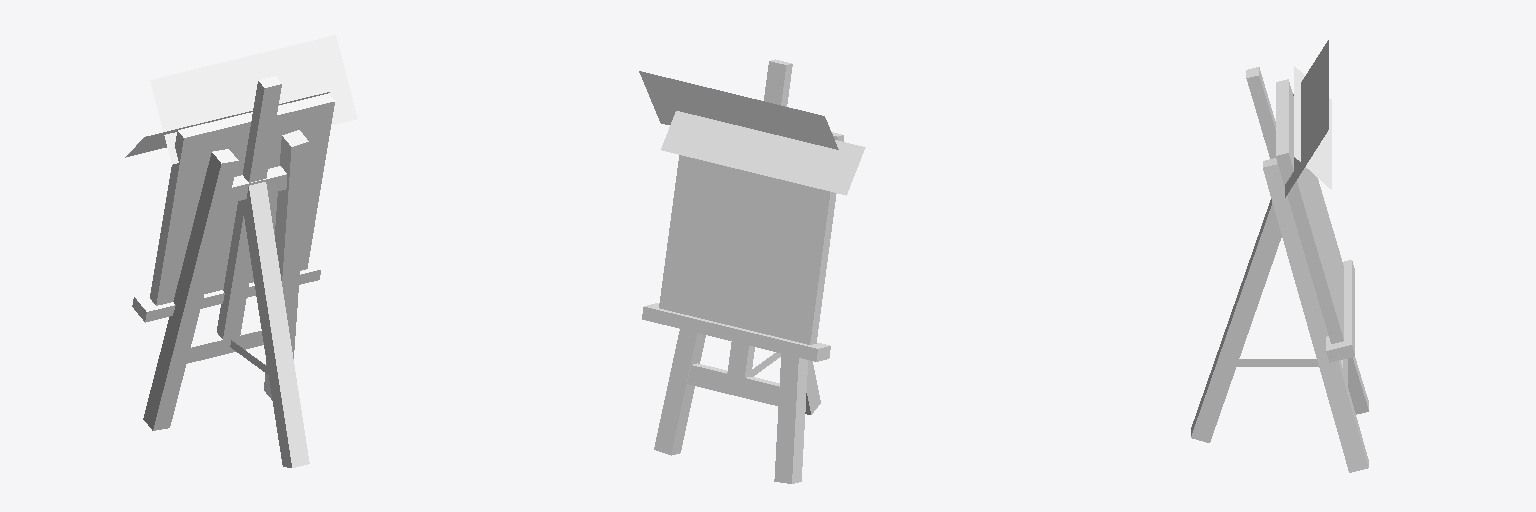
The model's file is mt_easel.obj.
3 renders of one model, left to right at view 1: azimuth 30°, elevation 25°; view 2: azimuth 150°, elevation 25°; view 3: azimuth 270°, elevation 25°, orthographic.
Visible parts, largest first — view 1: cube; view 2: cube; view 3: cube.
Part boxes in pixels (x1,y1,x2,y2): cube: (125, 35, 357, 467); cube: (639, 59, 865, 483); cube: (1191, 40, 1368, 472).
Bounding box in the file's own units: 1.12 × 1.9 × 0.8312.